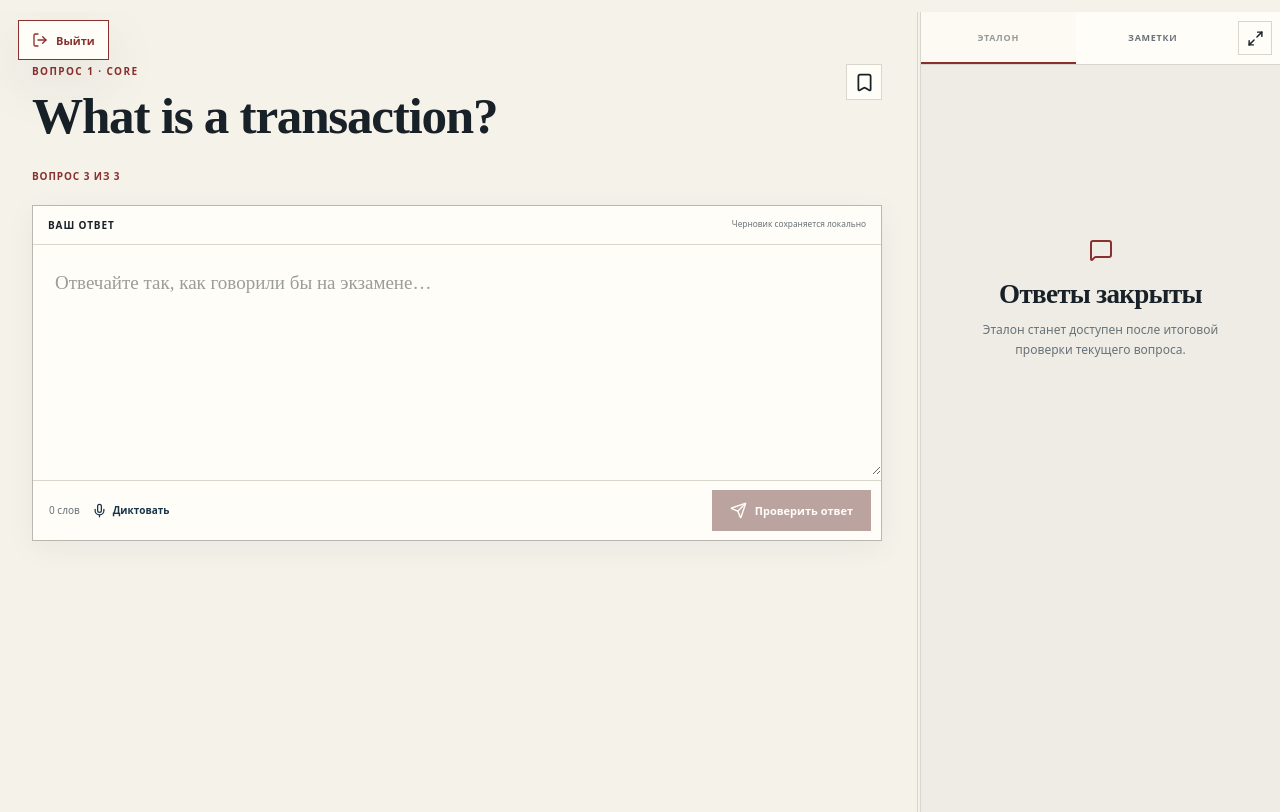
Test: Workspace › advances a run and renders its final summary
Type "Финальный полный ответ" into the text box named "ответ на вопрос" at (457, 360), box [33,245,881,475]
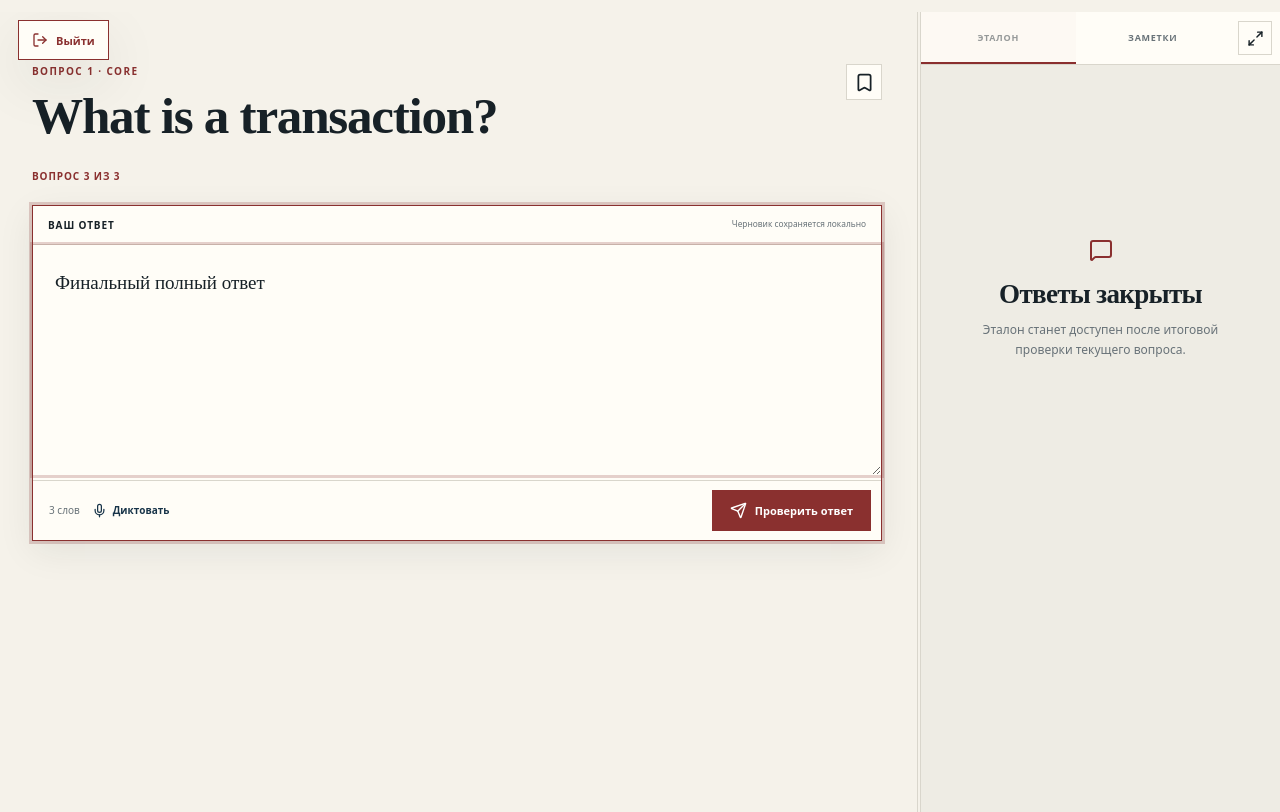
Click the button "Проверить ответ" at (791, 510), box [712,490,871,531]
(page scrolled)
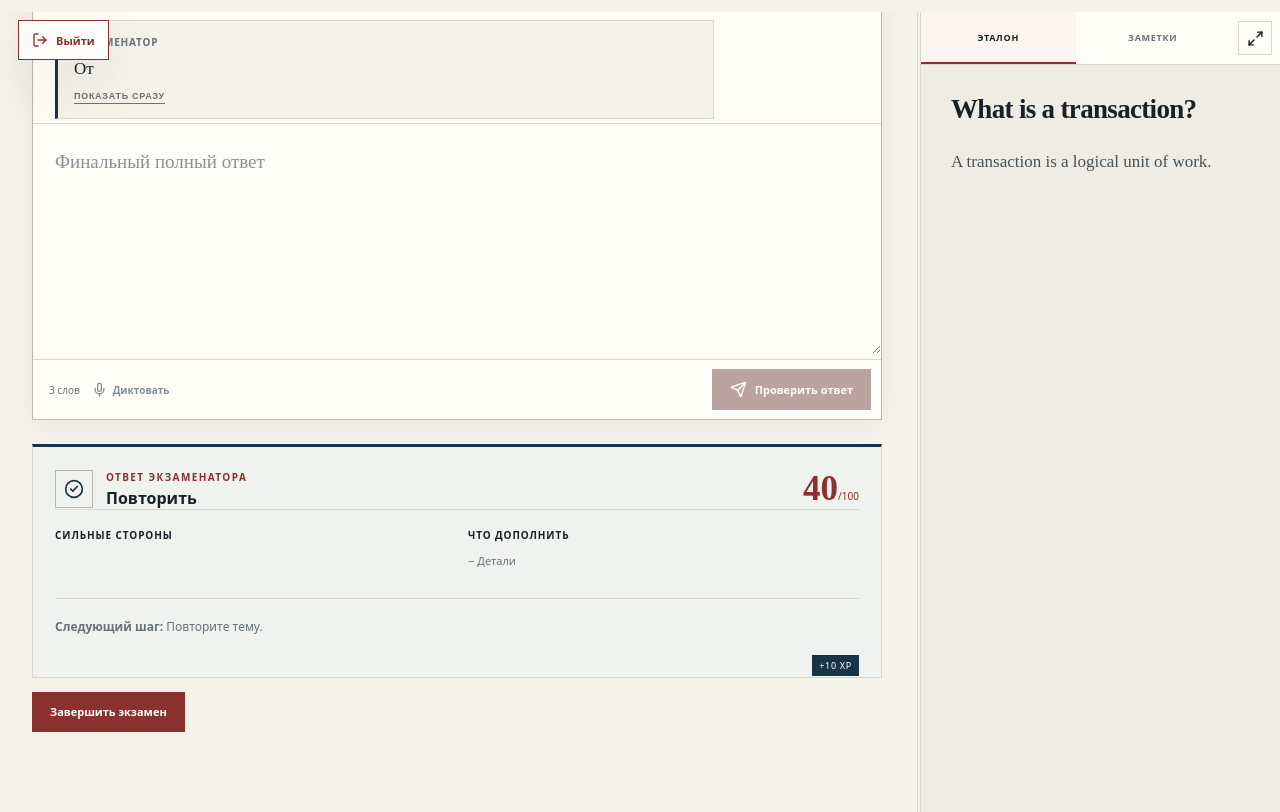
Click the button "Завершить экзамен" at (108, 712), box [32,692,185,732]
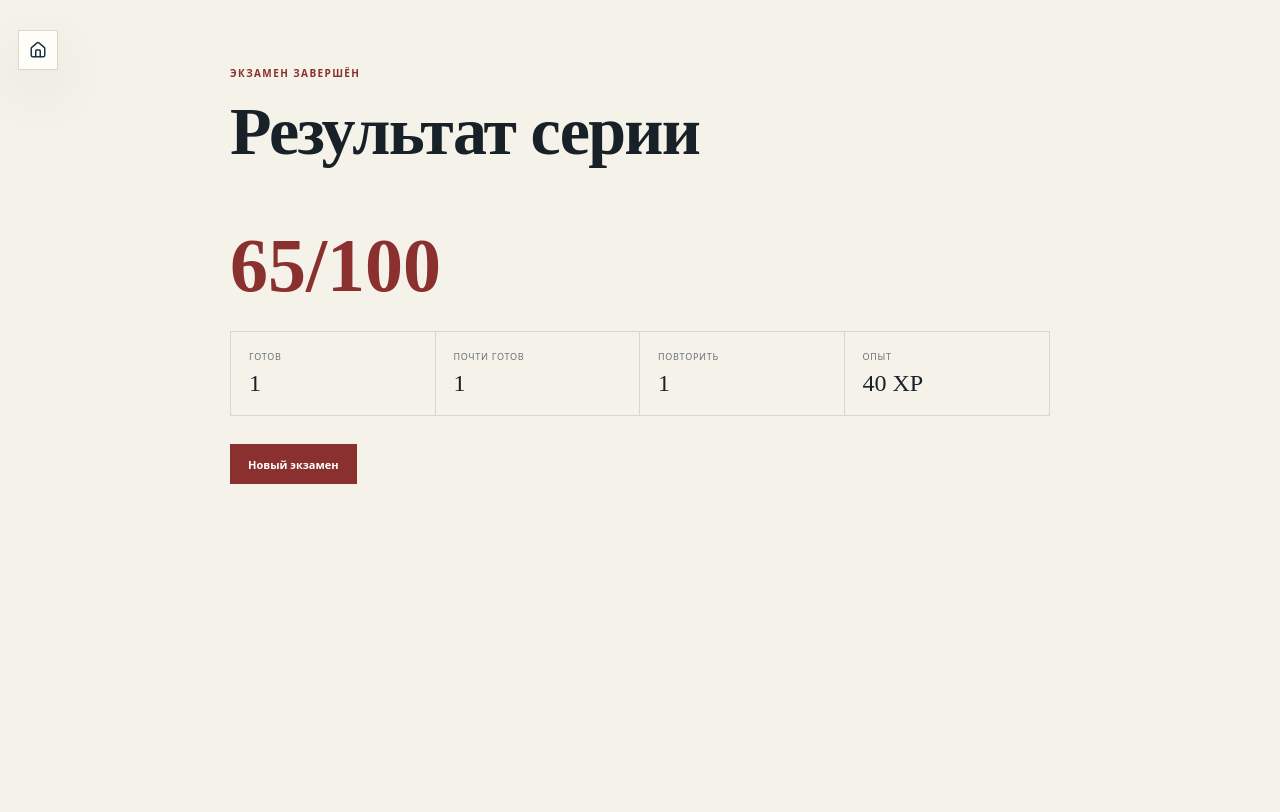
Now the text "65/100" is shown, box [230,227,441,303]
Now the text "40 XP" is shown, box [862,370,923,396]
